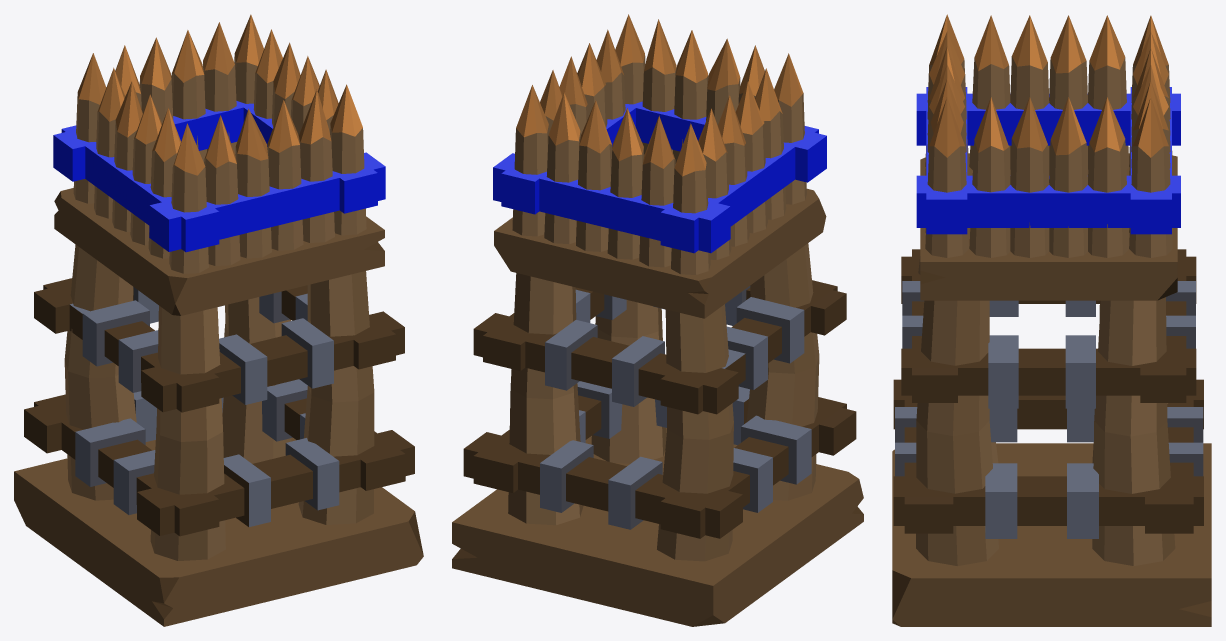
Rendered from Tower3.fbx.
The picture shows the model from 3 angles, left to right: view 1: azimuth 30°, elevation 25°; view 2: azimuth 150°, elevation 25°; view 3: azimuth 270°, elevation 25°; orthographic projection. The views are drawn at different scales.
Parts seen in each view (by area): view 1: Tower3; view 2: Tower3; view 3: Tower3.
Boxes of the visible parts, left/top/right/bottom form: Tower3: left=14, top=14, right=423, bottom=626; Tower3: left=452, top=14, right=863, bottom=626; Tower3: left=892, top=14, right=1211, bottom=626.
Size of the model in its own units: 400 by 700 by 400.
